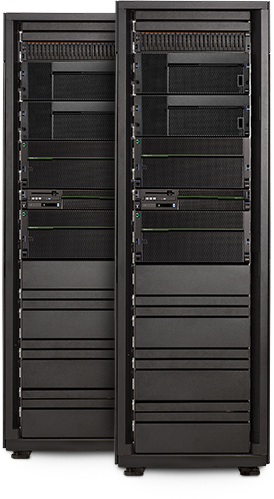ibm-server: (112, 1, 272, 479), (129, 207, 254, 267), (131, 133, 254, 191)
